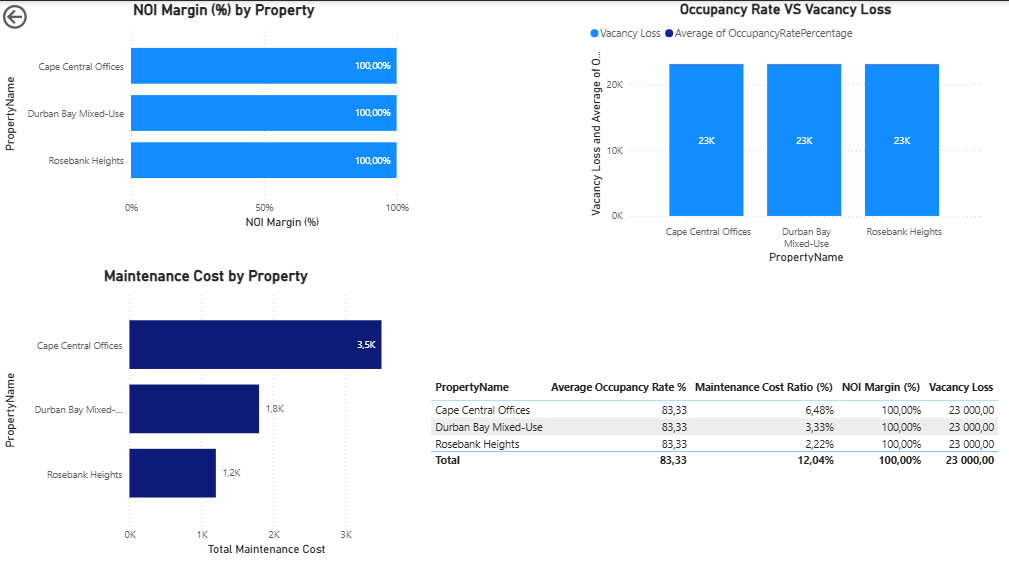

This screenshot's page, from the dashboard's own definition file:
{"tool":"powerbi","page":{"name":"Property Performance Deep Dive","canvas":[1280,720],"ordinal":1},"visuals":[{"type":"barChart","title":"NOI Margin (%) by Property","fields":{"Category":["vw_Property_Maintenance_Cost.PropertyName"],"Y":["vw_Property_Maintenance_Cost.NOI Margin (%)"]},"box":[0,0,566.9,291],"z":0},{"type":"barChart","title":"Maintenance Cost by Property","fields":{"Category":["vw_Property_Maintenance_Cost.PropertyName"],"Y":["vw_Property_Maintenance_Cost.Total Maintenance Cost"]},"box":[0,334.5,521.6,368.5],"z":1000},{"type":"columnChart","title":"Occupancy Rate VS Vacancy Loss ","fields":{"Category":["vw_Property_Maintenance_Cost.PropertyName"],"Y":["vw_Property_Maintenance_Cost.Vacancy Loss","Avg(vw_Property_Occupancy.OccupancyRatePercentage)"]},"box":[774.8,185.2,504.6,334.5],"z":2000},{"type":"tableEx","fields":{"Values":["vw_Property_Maintenance_Cost.PropertyName","vw_Property_Maintenance_Cost.Average Occupancy Rate %","vw_Property_Maintenance_Cost.Maintenance Cost Ratio (%)","vw_Property_Maintenance_Cost.NOI Margin (%)","vw_Property_Maintenance_Cost.Vacancy Loss"]},"box":[538.6,555.6,740.8,164.4],"z":3000},{"type":"actionButton","box":[0,0,100,40],"z":4000}]}

Visuals, with their boxes in screenshot pixels (x1, y1, x2, y2), scaled from the page's 1280x720 canvas onto the 1009x565 screenshot:
"NOI Margin (%) by Property" barChart: [0,0,447,228]
"Maintenance Cost by Property" barChart: [0,262,411,552]
"Occupancy Rate VS Vacancy Loss " columnChart: [611,145,1008,408]
tableEx - vw_Property_Maintenance_Cost.PropertyName x vw_Property_Maintenance_Cost.Average Occupancy Rate %: [425,436,1008,564]
actionButton: [0,0,79,31]
